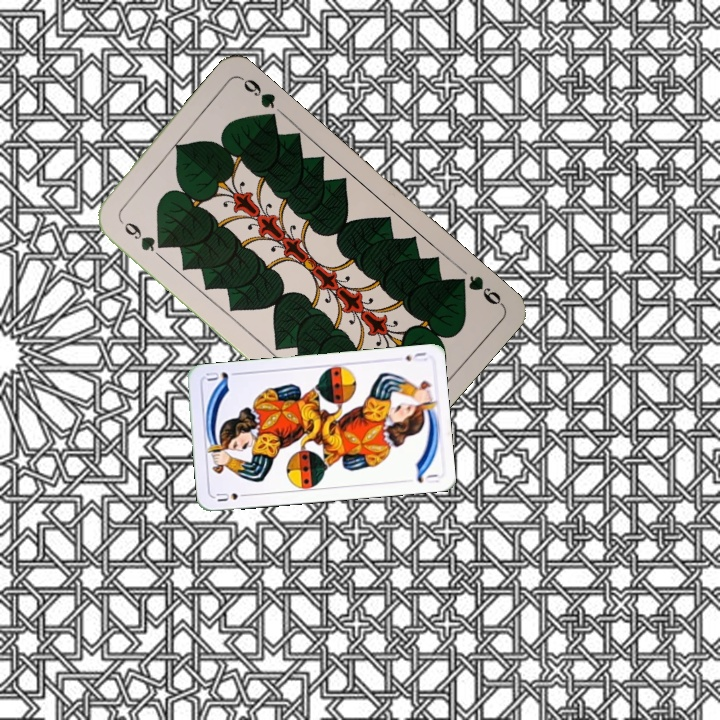G9: (450, 271, 505, 308), (120, 217, 168, 254)
SU: (212, 489, 252, 504), (401, 348, 428, 365)
